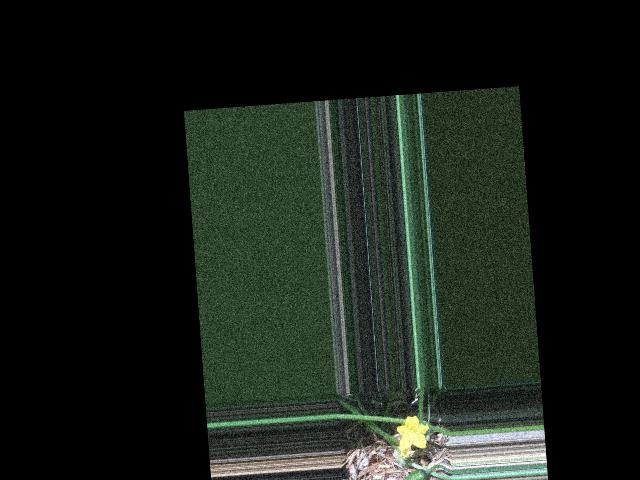cucumber: (363, 468, 430, 480)
